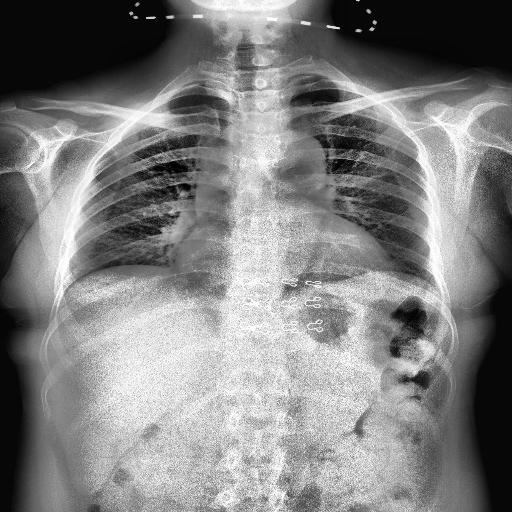0- Aortic enlargement: (199, 130, 325, 224), (246, 128, 326, 190), (270, 130, 326, 182)
3- Cardiomegaly: (170, 220, 402, 280), (176, 240, 392, 296), (172, 248, 394, 271)
